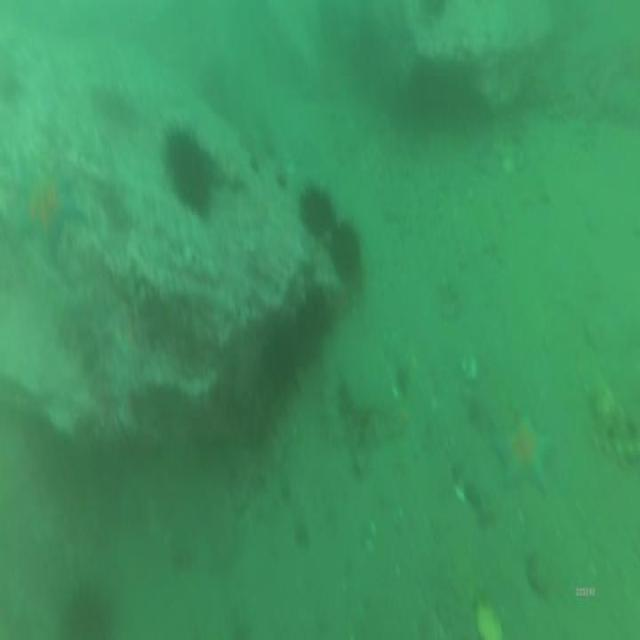echinus: (165, 138, 210, 216), (298, 187, 332, 237), (266, 332, 293, 393), (291, 307, 318, 368), (331, 221, 359, 278)
starfish: (19, 161, 80, 251), (494, 414, 553, 491)
